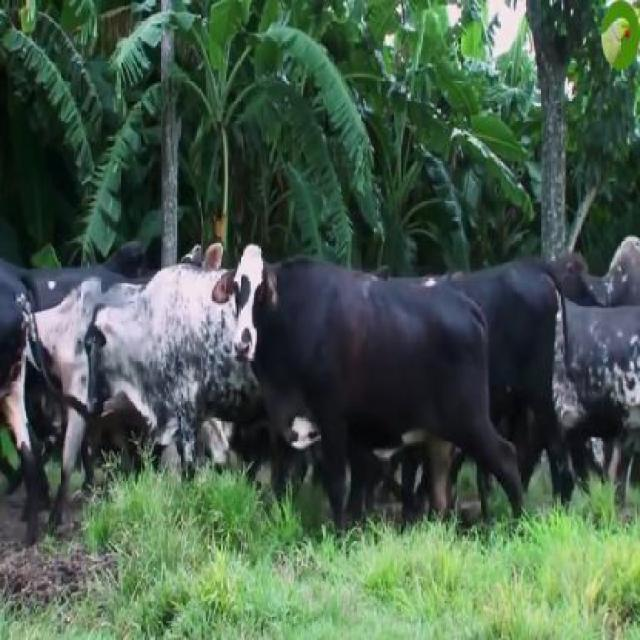Cow: (212, 240, 523, 542), (86, 271, 291, 491), (22, 268, 142, 495)
